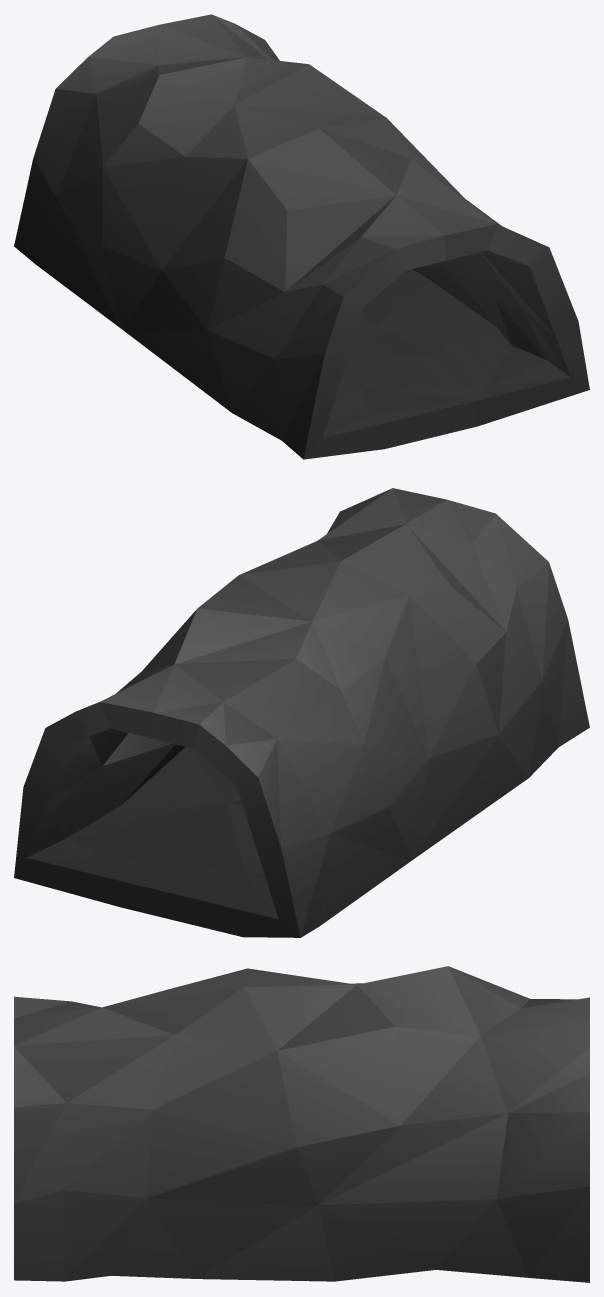
The model's file is GL-Cave-part-03-LOD2.fbx.
The picture shows the model from 3 angles, top to bottom: view 1: azimuth 30°, elevation 25°; view 2: azimuth 150°, elevation 25°; view 3: azimuth 270°, elevation 25°; orthographic projection.
Visible parts, largest first — view 1: GL_Cave_part_03; view 2: GL_Cave_part_03; view 3: GL_Cave_part_03.
Part boxes in pixels (left/top/right/bottom): GL_Cave_part_03: left=14, top=14, right=589, bottom=459; GL_Cave_part_03: left=14, top=488, right=589, bottom=937; GL_Cave_part_03: left=14, top=966, right=589, bottom=1282.
Bounding box in the file's own units: 3.53 × 2.6 × 6.
